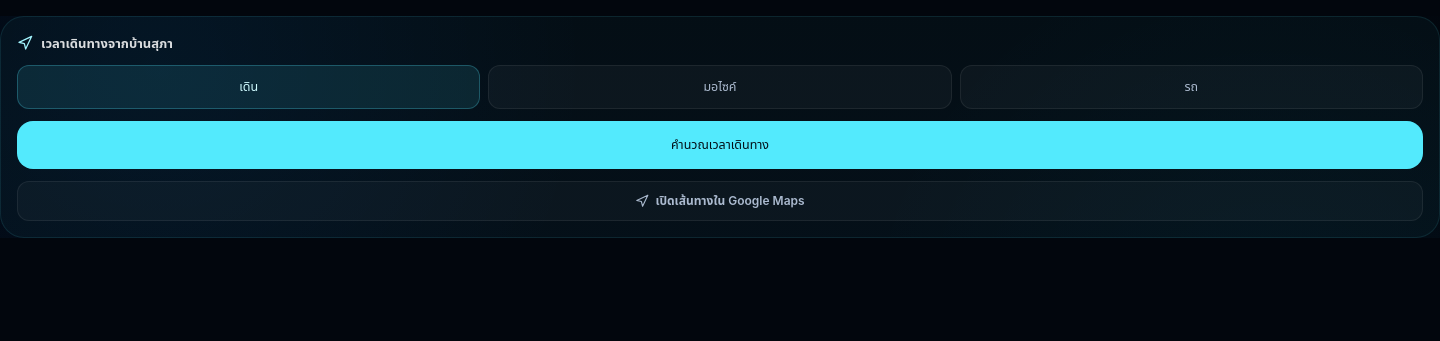
it: PlaceEtaPanel › requests only the explicitly selected mode
Click the button "รถ".
click(1191, 87)  # box [960,65,1423,109]
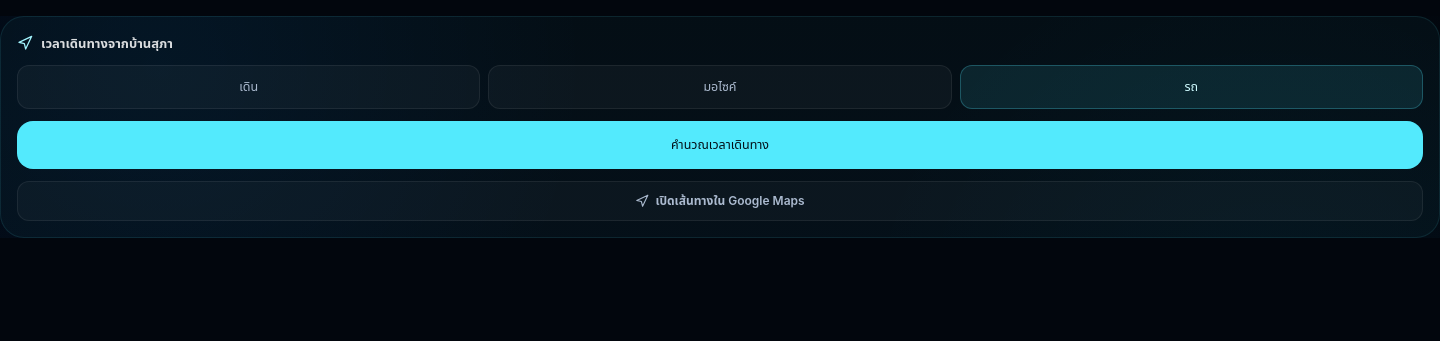
Click the button "คำนวณเวลาเดินทาง".
click(720, 145)  # box [17,121,1423,169]
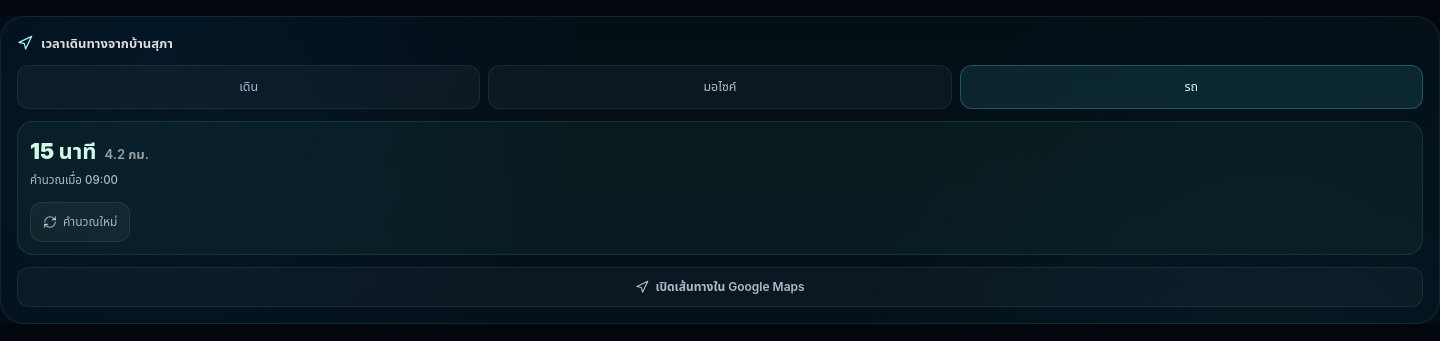
Result: the text "15 นาที" is shown at [30,134,96,168]
